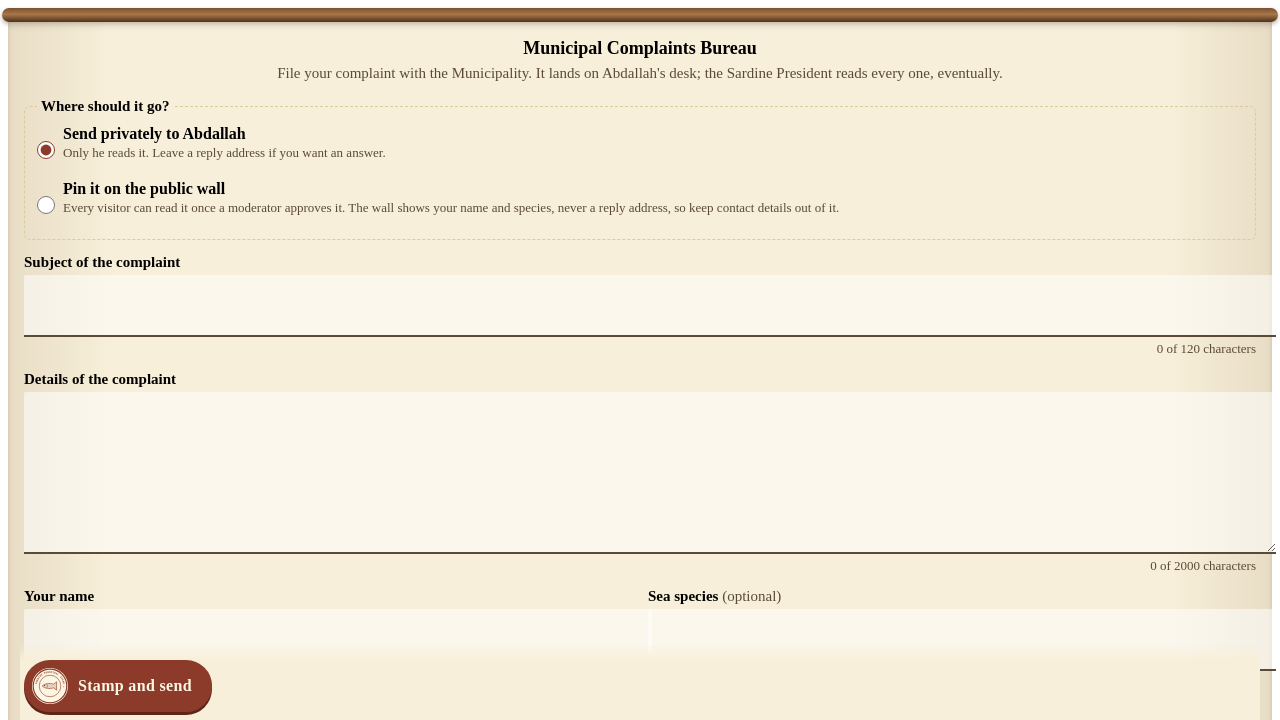
Test: the Bureau form with the wall on › names a rate limit instead of the generic failure
Type "The pineapple leaks" into the field labelled "Subject of the complaint". click: x=650, y=306
box: [24,275,1276,337]
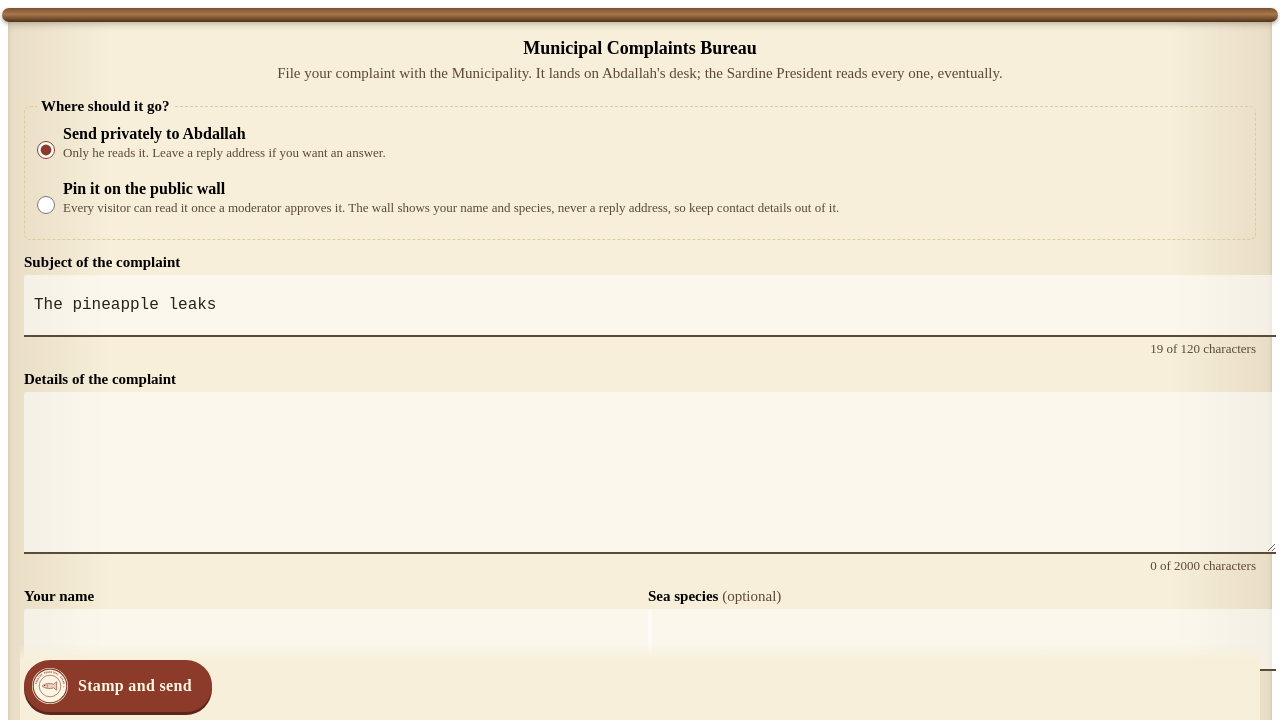
Type "Please send help." into the text box labelled "Details of the complaint". click: x=650, y=473
box: [24,392,1276,554]
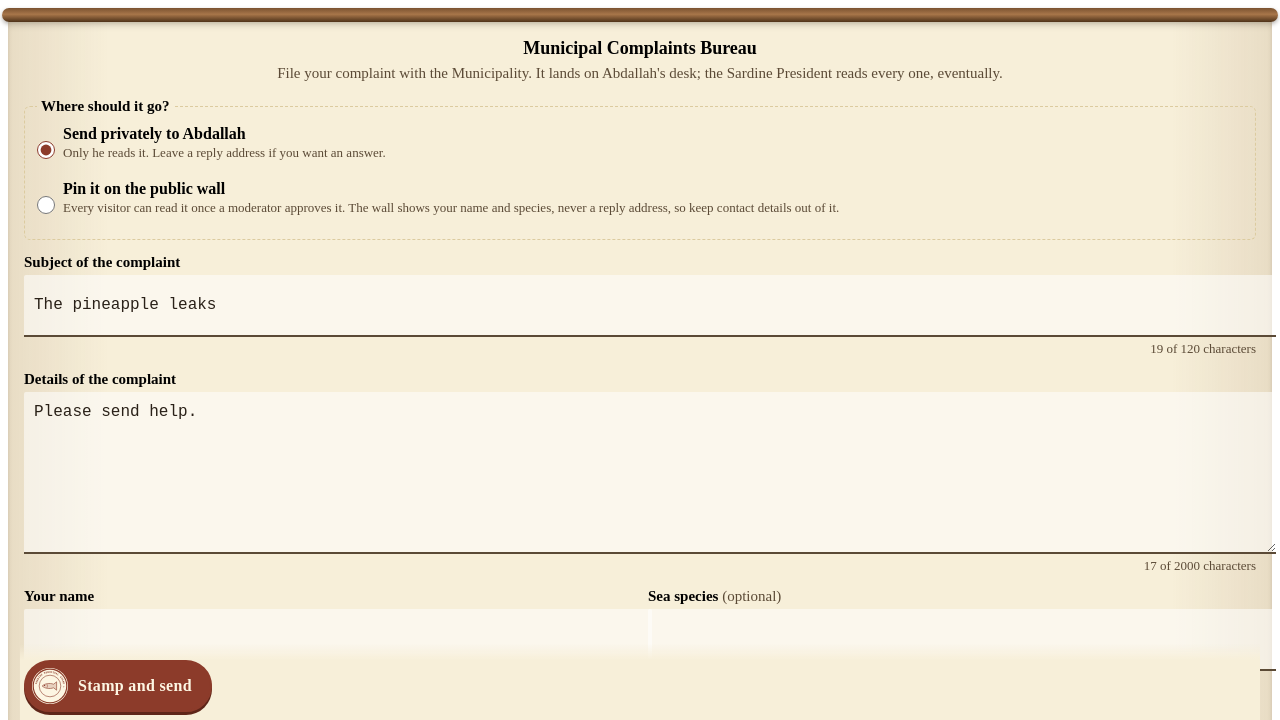
Type "Sardine Sam" into the field labelled "Your name". click: x=338, y=640
box: [24,609,652,671]
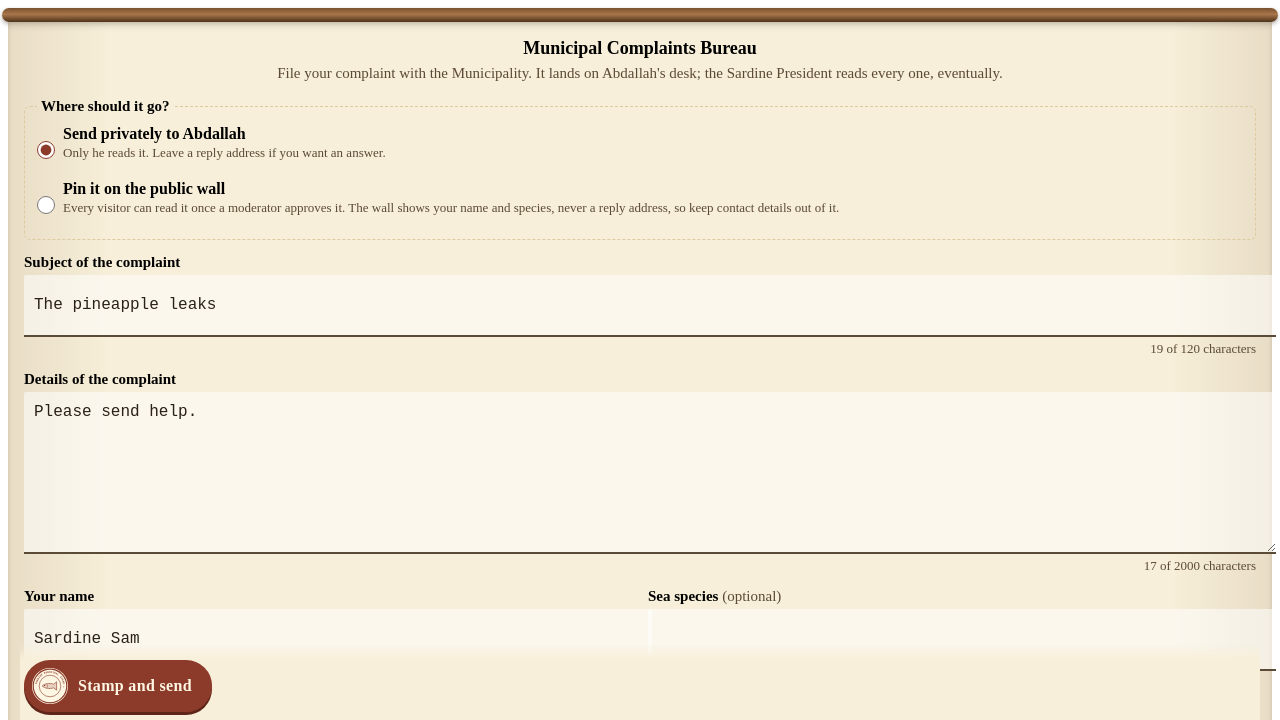
Click the radio button labelled "Pin it on the public wall". click: x=46, y=205
box: [37,183,55,227]
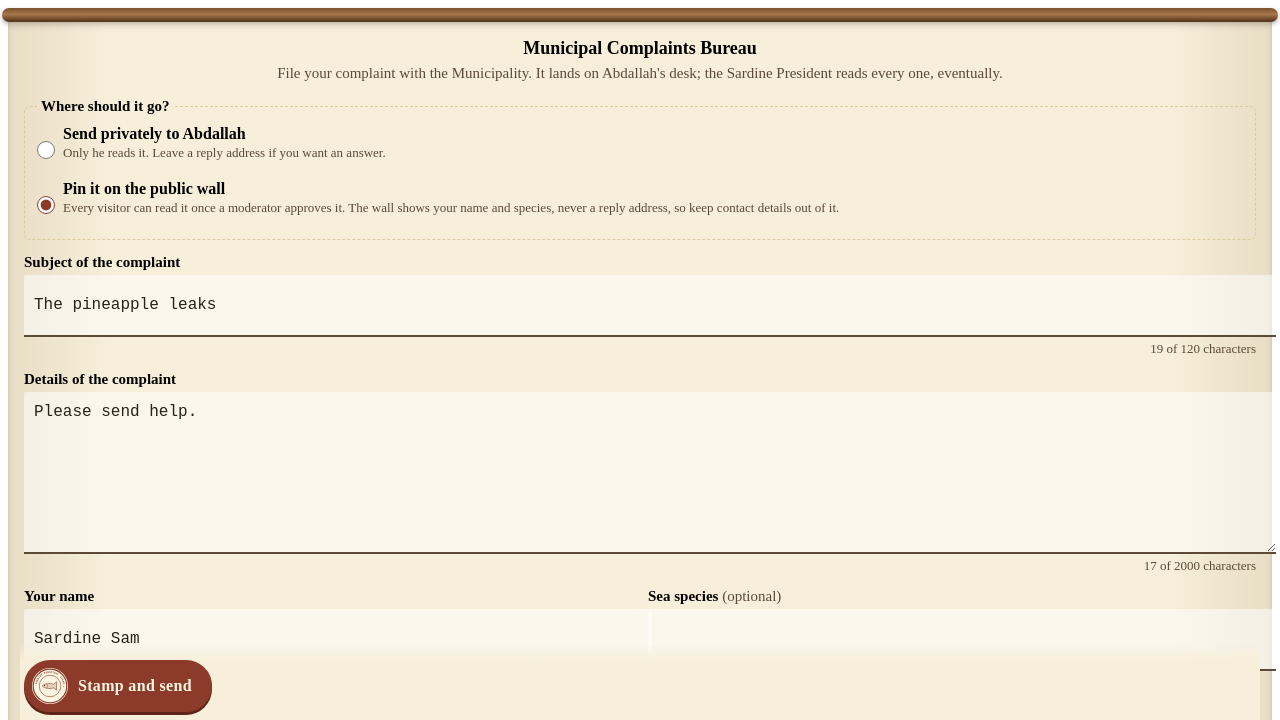
Click the button "★ Sardine Municipal Stamp ★ Stamp and send". click: x=118, y=686
box: [24,660,212,712]
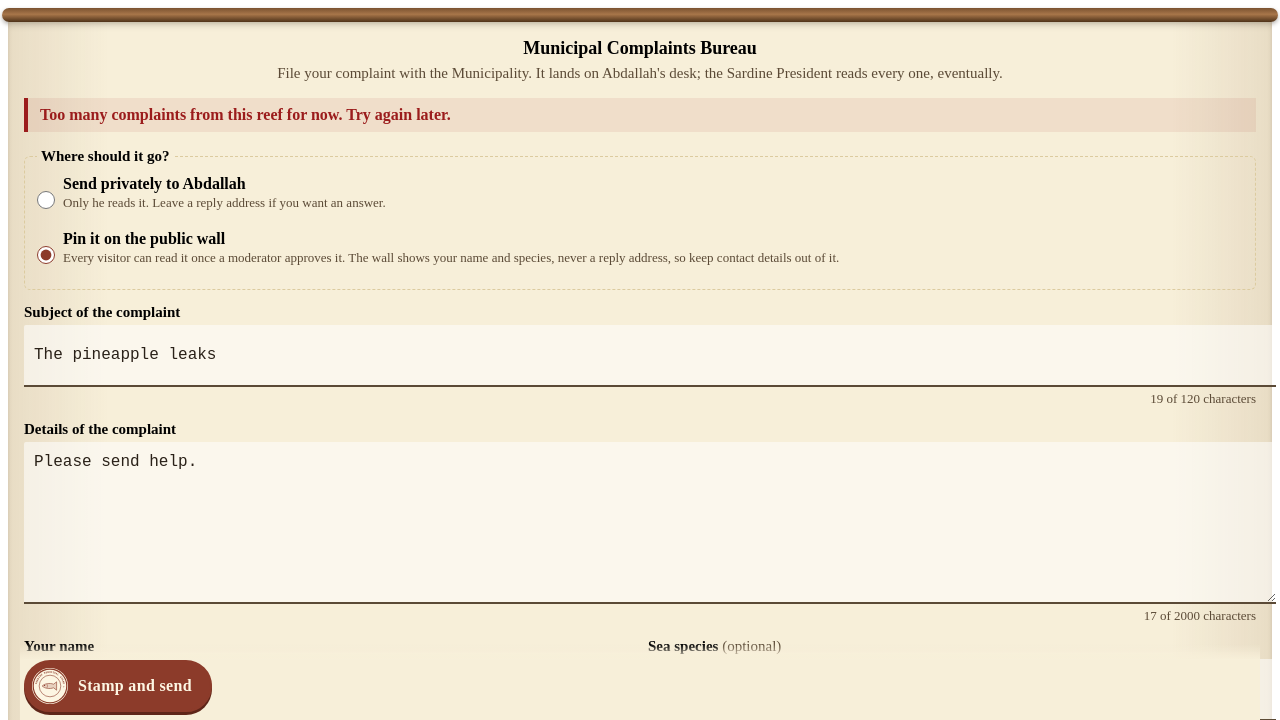
expect the message reads "Too many complaints from this reef for now. Try again later.": met, box [40,106,451,123]
